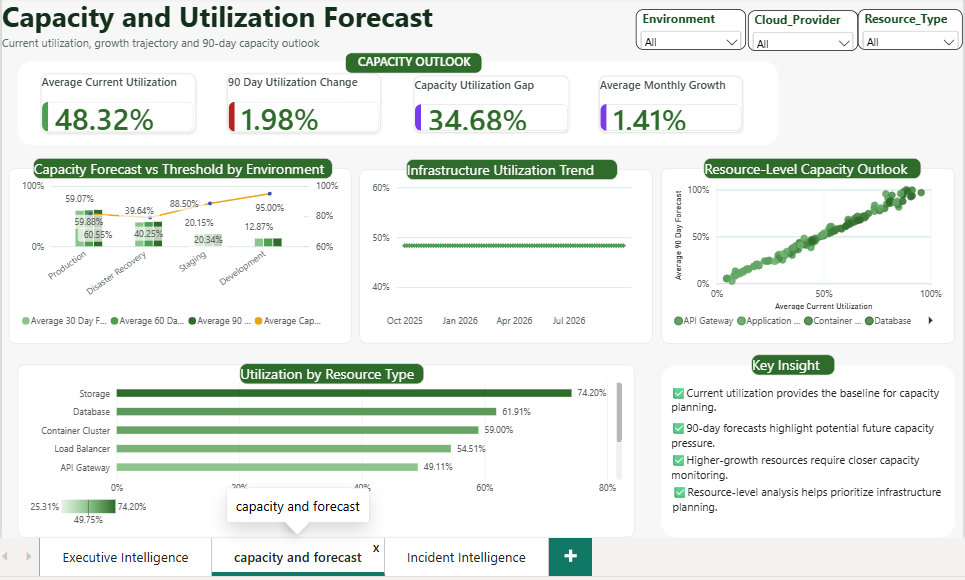

The page's visual inventory and layout, read from the dashboard file:
{"tool":"powerbi","page":{"name":"capacity and forecast","canvas":[1280,720],"ordinal":1},"visuals":[{"type":"shape","box":[878.4,491.1,390.6,229.1],"z":0},{"type":"lineChart","fields":{"Category":["capacity_planning.Planning_Date"],"Y":["vw_infrastructure_intelligence.Average Current Utilization"]},"box":[476.3,229.1,390.6,232.4],"z":2000},{"type":"shape","box":[21.4,85.7,1013.5,112.1],"z":3000},{"type":"textbox","title":"Capacity and Utilization Forecast","box":[0,0,843.3,58.3],"z":4000},{"type":"cardVisual","title":"Average Current Utilization","fields":{"Data":["vw_infrastructure_intelligence.Average Current Utilization"]},"box":[51.1,102.2,206,79.1],"z":5000},{"type":"textbox","title":"Current utilization, growth trajectory and 90-day capacity outlook","box":[0,50,515,25],"z":6000},{"type":"textbox","title":"FY 2025–26","box":[1015,10,151.7,35],"z":7000},{"type":"shape","title":"CAPACITY OUTLOOK","box":[456.5,74.2,182.9,28],"z":8000},{"type":"cardVisual","title":"Capacity Utilization Gap","fields":{"Data":["vw_infrastructure_intelligence.Capacity Utilization Gap"]},"box":[548.8,105.5,207.6,75.8],"z":9000},{"type":"cardVisual","title":"Average Monthly Growth","fields":{"Data":["vw_infrastructure_intelligence.Average Monthly Growth"]},"box":[796,105.5,191.2,75.8],"z":10000},{"type":"cardVisual","title":"90 Day Utilization Change","fields":{"Data":["vw_infrastructure_intelligence.90 Day Utilization Change"]},"box":[299.9,102.2,204.3,79.1],"z":11000},{"type":"lineClusteredColumnComboChart","fields":{"Category":["infrastructure_master.Environment"],"Y":["vw_infrastructure_intelligence.Average 30 Day Forecast","vw_infrastructure_intelligence.Average 60 Day Forecast","vw_infrastructure_intelligence.Average 90 Day Forecast"],"Y2":["vw_infrastructure_intelligence.Average Capacity Threshold"]},"box":[8.2,227.4,456.5,234],"z":12000},{"type":"scatterChart","fields":{"Category":["infrastructure_master.Infrastructure_ID"],"Series":["infrastructure_master.Resource_Type"],"X":["vw_infrastructure_intelligence.Average Current Utilization"],"Y":["vw_infrastructure_intelligence.Average 90 Day Forecast"]},"box":[878.4,227.4,390.6,234],"z":13000},{"type":"shape","title":"Capacity Forecast vs Threshold by Environment","box":[41.2,214.2,398.8,28],"z":14000},{"type":"shape","title":"Infrastructure Utilization Trend","box":[538.9,215.9,281.8,28],"z":15000},{"type":"shape","title":"Resource-Level Capacity Outlook","box":[934.4,214.2,290,28],"z":16000},{"type":"clusteredBarChart","fields":{"Category":["infrastructure_master.Resource_Type"],"Y":["vw_infrastructure_intelligence.Average Current Utilization"]},"box":[21.4,489.4,822.3,230.7],"z":17000},{"type":"shape","title":"Utilization by Resource Type","box":[316.4,487.8,245.5,28],"z":19000},{"type":"shape","title":"Key Insight","box":[998.7,476.3,112.1,28],"z":20000},{"type":"textbox","title":"✅Current utilization provides the baseline for capacity planning.","box":[891.5,515.8,377.4,42.8],"z":21000},{"type":"textbox","title":"✅90-day forecasts highlight potential future capacity pressure.","box":[891.5,563.6,377.4,42.8],"z":21001},{"type":"textbox","title":"✅Higher-growth resources require closer capacity monitoring.","box":[891.5,606.4,377.4,42.8],"z":21002},{"type":"textbox","title":"✅Resource-level analysis helps prioritize infrastructure planning.","box":[893.2,649.3,377.4,42.8],"z":21003}]}

Visuals, with their boxes on the page's 1280x720 design canvas (x1, y1, x2, y2). These are canvas units, not pixel positions in the 965x580 screenshot, which may show the page scaled, cropped or inside an application window:
shape: 878:491:1269:720
lineChart - capacity_planning.Planning_Date x vw_infrastructure_intelligence.Average Current Utilization: 476:229:867:462
shape: 21:86:1035:198
"Capacity and Utilization Forecast" textbox: 0:0:843:58
"Average Current Utilization" cardVisual: 51:102:257:181
"Current utilization, growth trajectory and 90-day capacity outlook" textbox: 0:50:515:75
"FY 2025–26" textbox: 1015:10:1167:45
"CAPACITY OUTLOOK" shape: 456:74:639:102
"Capacity Utilization Gap" cardVisual: 549:106:756:181
"Average Monthly Growth" cardVisual: 796:106:987:181
"90 Day Utilization Change" cardVisual: 300:102:504:181
lineClusteredColumnComboChart - infrastructure_master.Environment x vw_infrastructure_intelligence.Average 30 Day Forecast: 8:227:465:461
scatterChart - infrastructure_master.Infrastructure_ID x infrastructure_master.Resource_Type: 878:227:1269:461
"Capacity Forecast vs Threshold by Environment" shape: 41:214:440:242
"Infrastructure Utilization Trend" shape: 539:216:821:244
"Resource-Level Capacity Outlook" shape: 934:214:1224:242
clusteredBarChart - infrastructure_master.Resource_Type x vw_infrastructure_intelligence.Average Current Utilization: 21:489:844:720
"Utilization by Resource Type" shape: 316:488:562:516
"Key Insight" shape: 999:476:1111:504
"✅Current utilization provides the baseline for capacity planning." textbox: 892:516:1269:559
"✅90-day forecasts highlight potential future capacity pressure." textbox: 892:564:1269:606
"✅Higher-growth resources require closer capacity monitoring." textbox: 892:606:1269:649
"✅Resource-level analysis helps prioritize infrastructure planning." textbox: 893:649:1271:692
